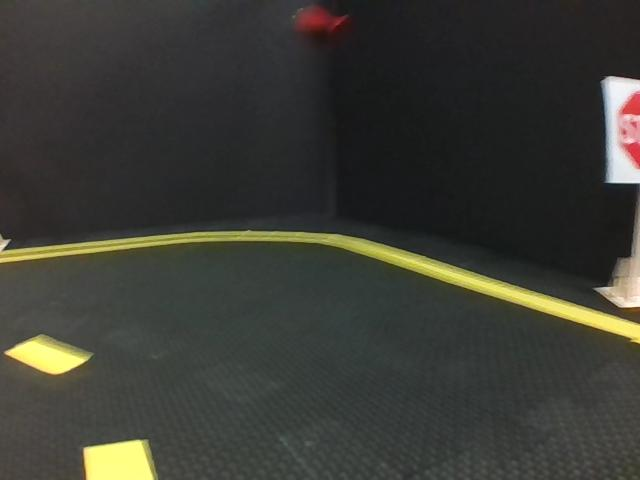stop: (607, 79, 640, 184)
